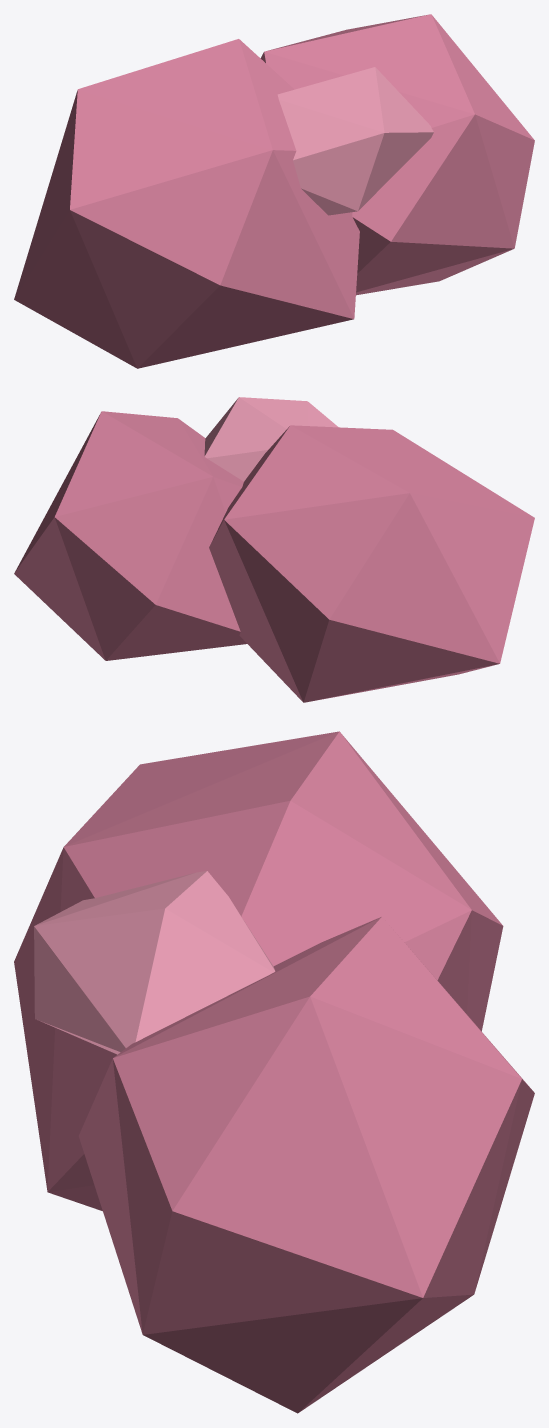
Rendered from deco_bush.glb.
3 views of the same model, one above another, from view 1: azimuth 30°, elevation 25°; view 2: azimuth 150°, elevation 25°; view 3: azimuth 270°, elevation 25° (orthographic). The views are drawn at different scales.
Visible parts, largest first — view 1: deco_bush_mesh; view 2: deco_bush_mesh; view 3: deco_bush_mesh.
Part boxes in pixels (x1,y1,x2,y2): deco_bush_mesh: (14, 14, 534, 368); deco_bush_mesh: (14, 397, 534, 702); deco_bush_mesh: (14, 731, 534, 1413).
Bounding box in the file's own units: 0.2044 × 0.1184 × 0.122.
